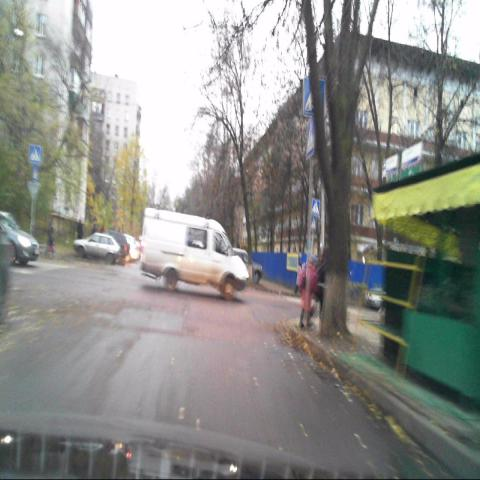5_19_1: (306, 117, 316, 160)
